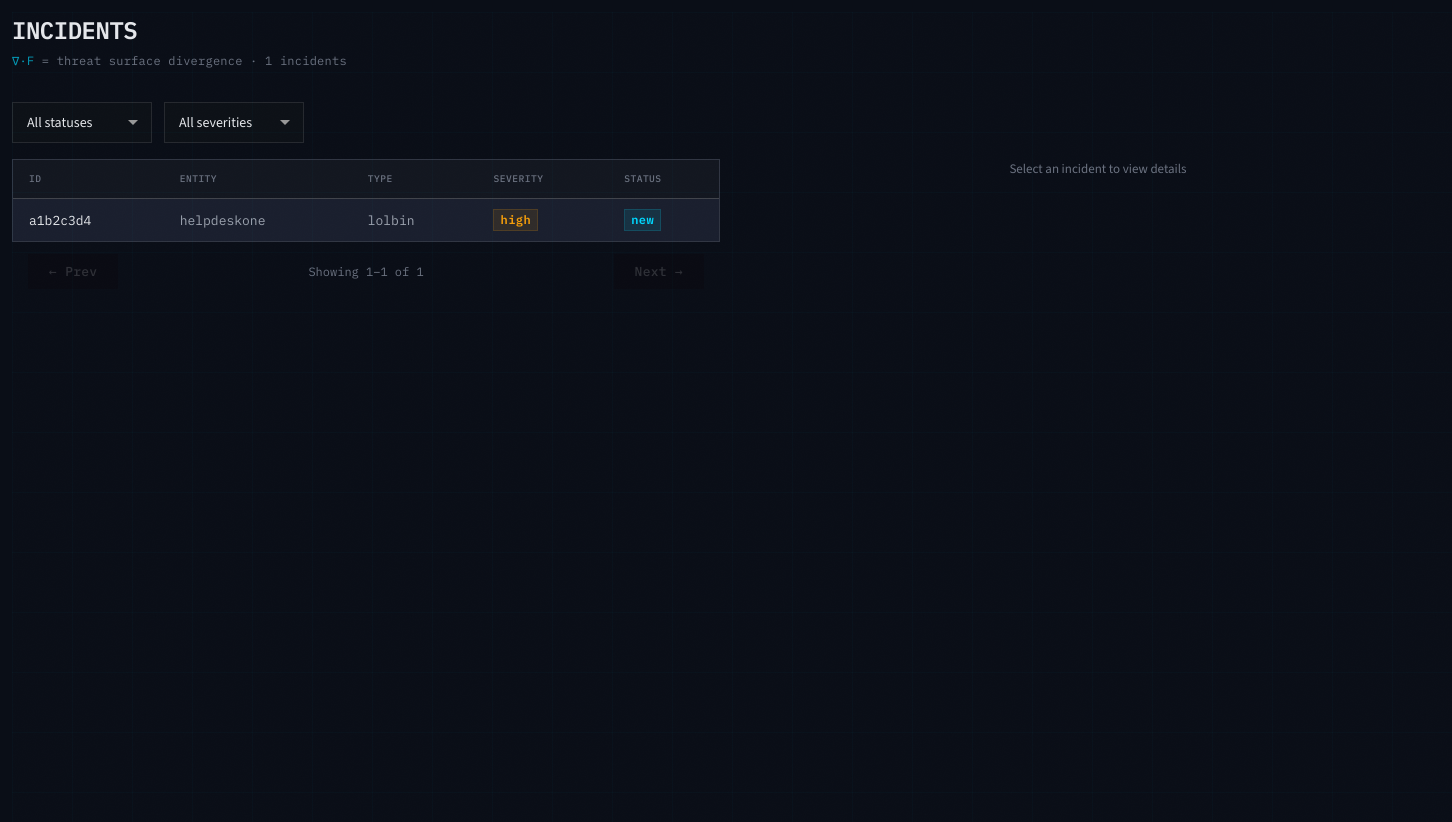
Scenario: SupervisorReportCard (Phase 3, R-1/FR-1/D-10) › capped (round 11 F-1): beyond-cap banner, never reads as a validation failure
Click the text "helpdeskone" at (258, 220), box [164, 199, 352, 241]
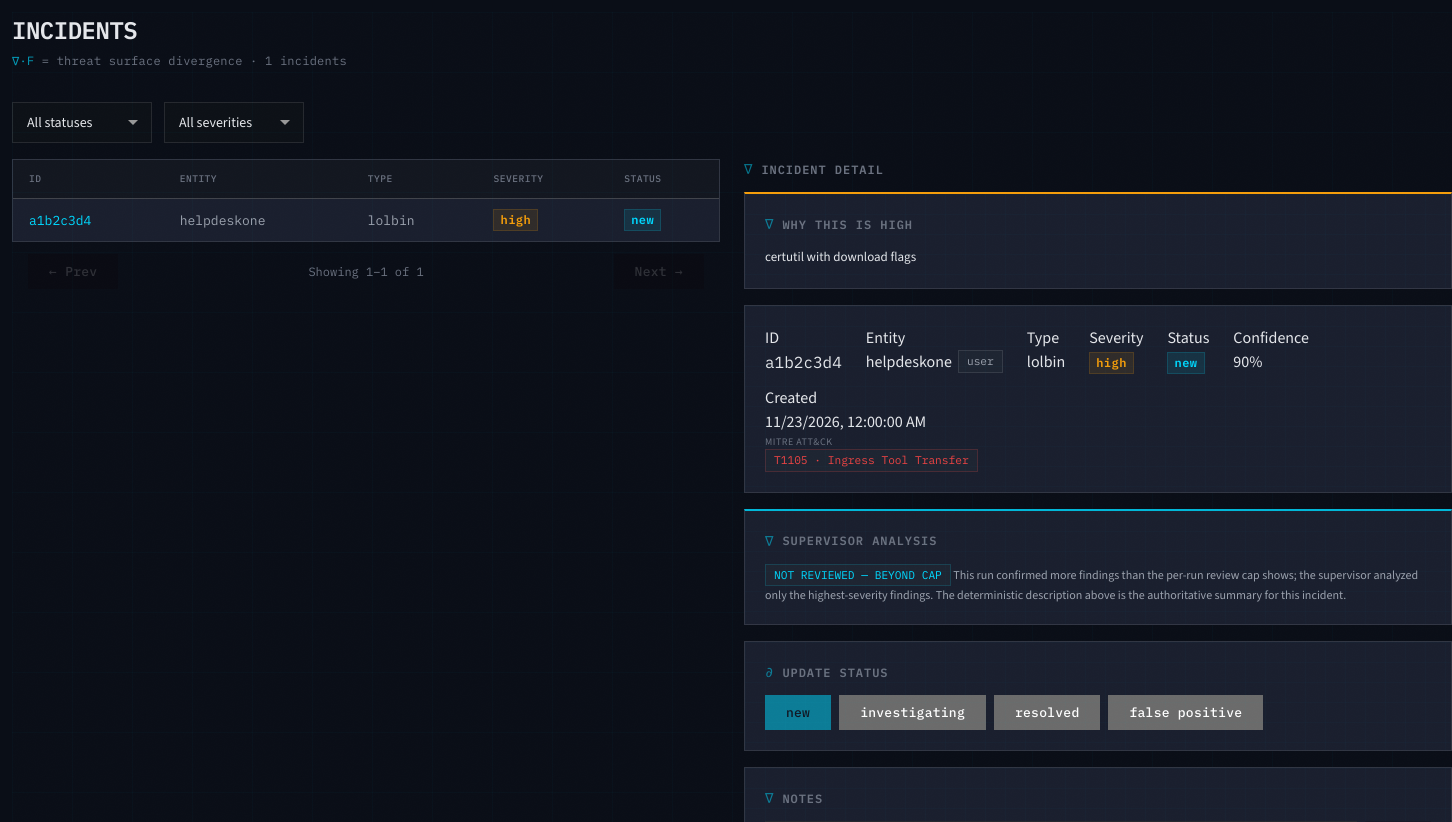
Now the text "SUPERVISOR ANALYSIS" is shown, box [782, 533, 937, 548]
Now the text "NOT REVIEWED — BEYOND CAP" is shown, box [765, 564, 951, 586]
Now the text "authoritative summary" is shown, box [765, 567, 1418, 603]
